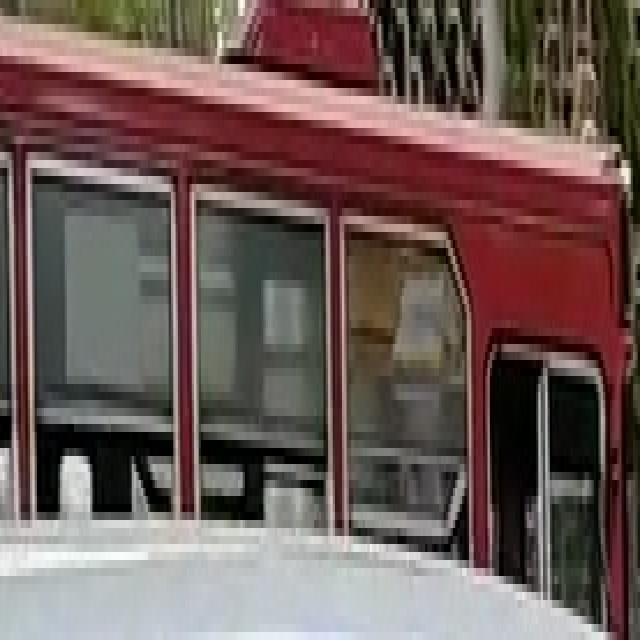door: (190, 176, 332, 520)
tyre: (0, 0, 638, 632)
